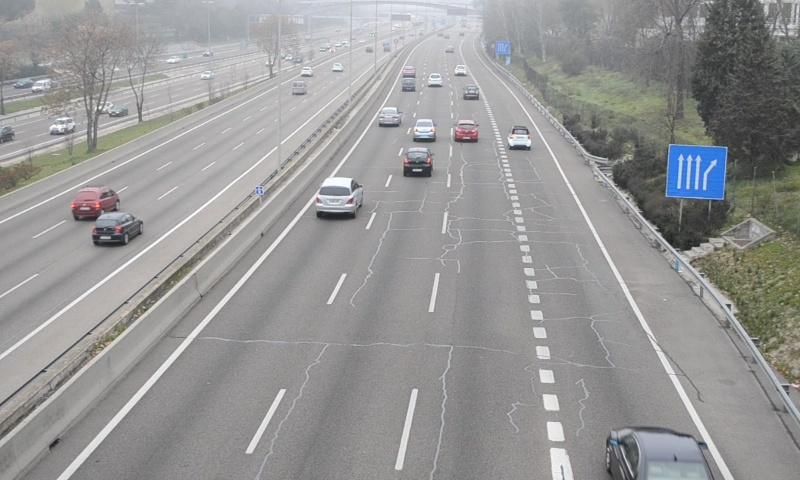car: (315, 176, 364, 215), (402, 147, 434, 178), (508, 125, 531, 151), (455, 120, 480, 143), (413, 118, 436, 142), (378, 107, 402, 128), (462, 84, 480, 101), (426, 72, 443, 87), (400, 78, 416, 92)
